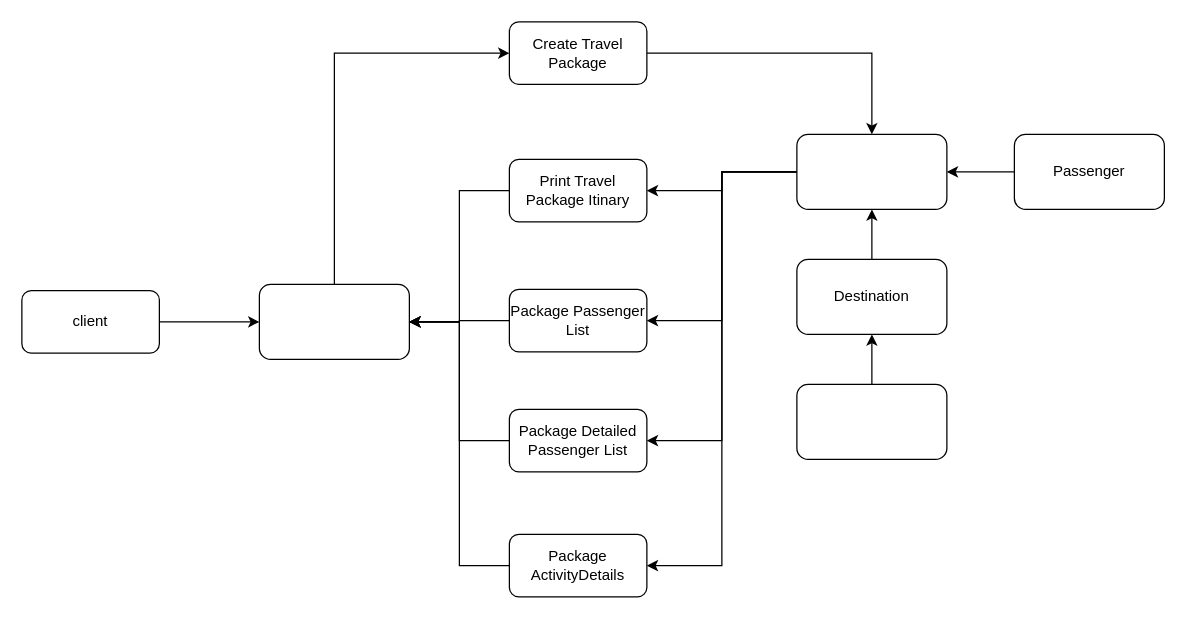
Some shapes in this 1186 by 619 pixel diagram are drawn without their labels. Here are the shapes that lost their labels. From the top down, the box of each, then its label:
(796, 133, 947, 209): TravelPackage
(258, 283, 409, 359): TravelManagement Service
(796, 383, 947, 459): Activity
